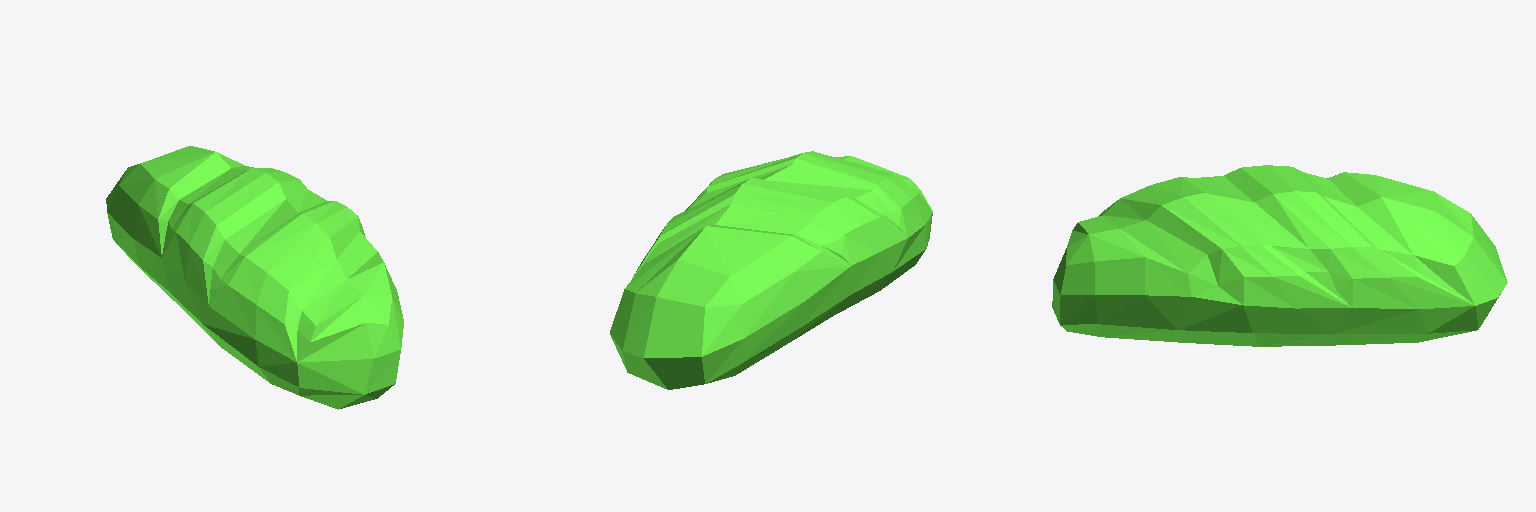
The picture shows the model from 3 angles: view 1: azimuth 30°, elevation 25°; view 2: azimuth 150°, elevation 25°; view 3: azimuth 270°, elevation 25°; orthographic projection.
Visible parts, largest first — view 1: DrawCall_85; view 2: DrawCall_85; view 3: DrawCall_85.
Boxes of the visible parts, <box> form: DrawCall_85: <box>106,146,403,409</box>; DrawCall_85: <box>610,151,932,389</box>; DrawCall_85: <box>1052,165,1507,346</box>.
Bounding box in the file's own units: 0.7542 × 0.5653 × 1.59.
1 materials, 1 textured.